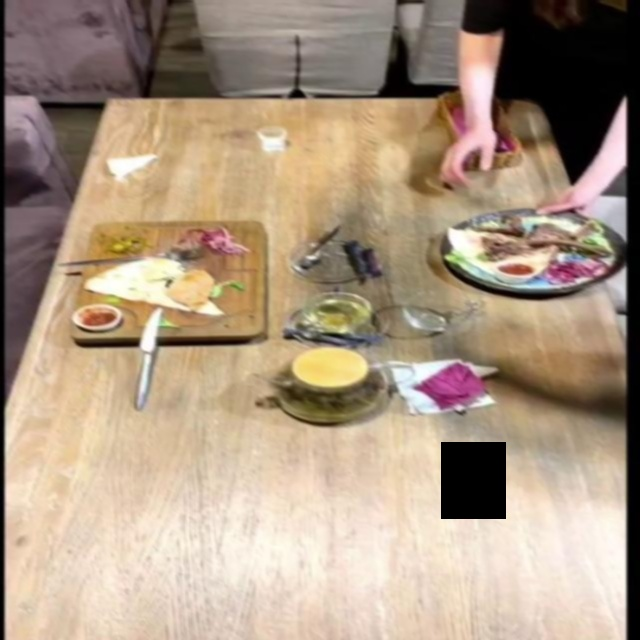meat: (70, 216, 280, 348), (436, 213, 612, 293)
tea: (273, 360, 380, 419)
